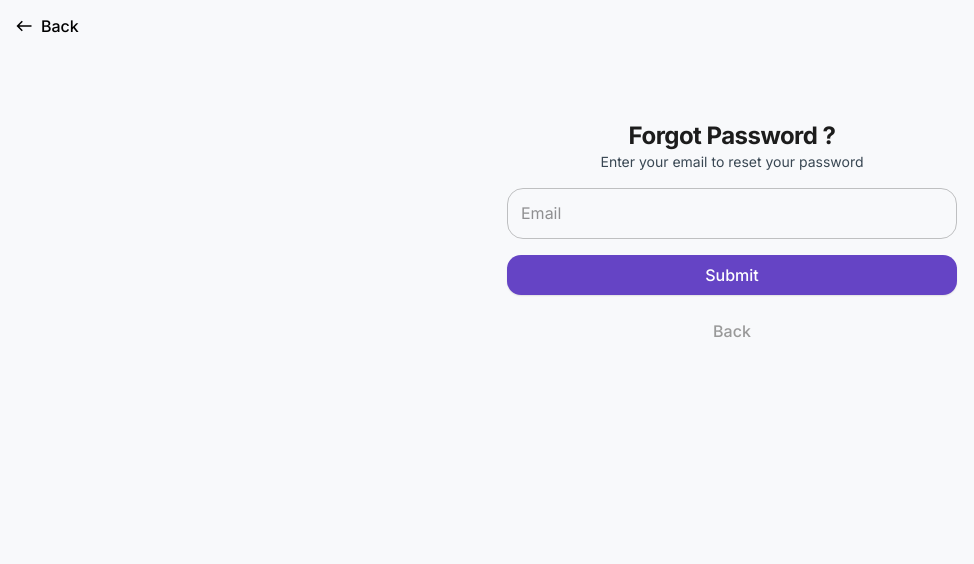
it: ForgotPasswordScreen Back Button › OTP verification screen
Type "test@mail.com" into the field with placeholder "Email" at coordinates (732, 214), box [507,188,957,239]
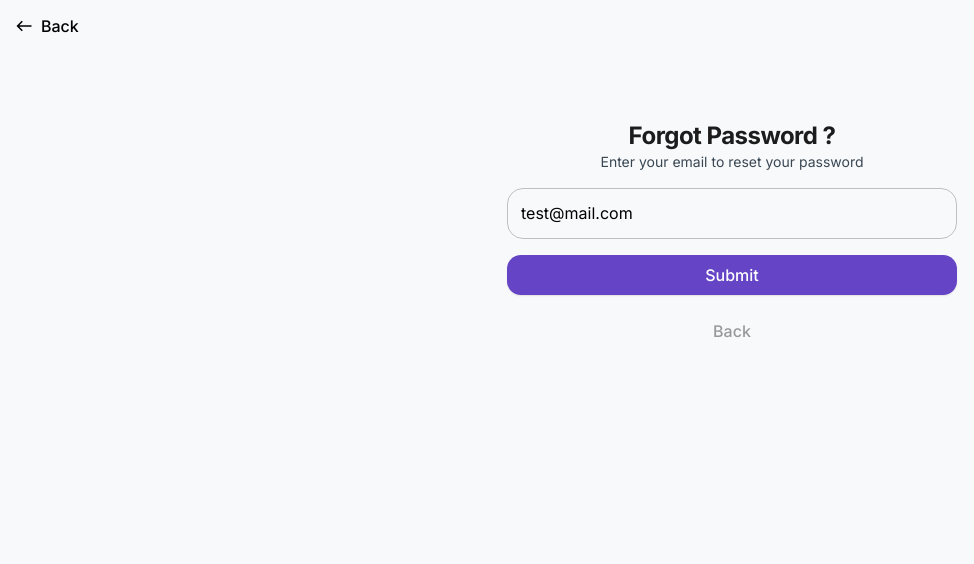
Click the button "Submit" at coordinates (732, 275), box [507,255,957,295]
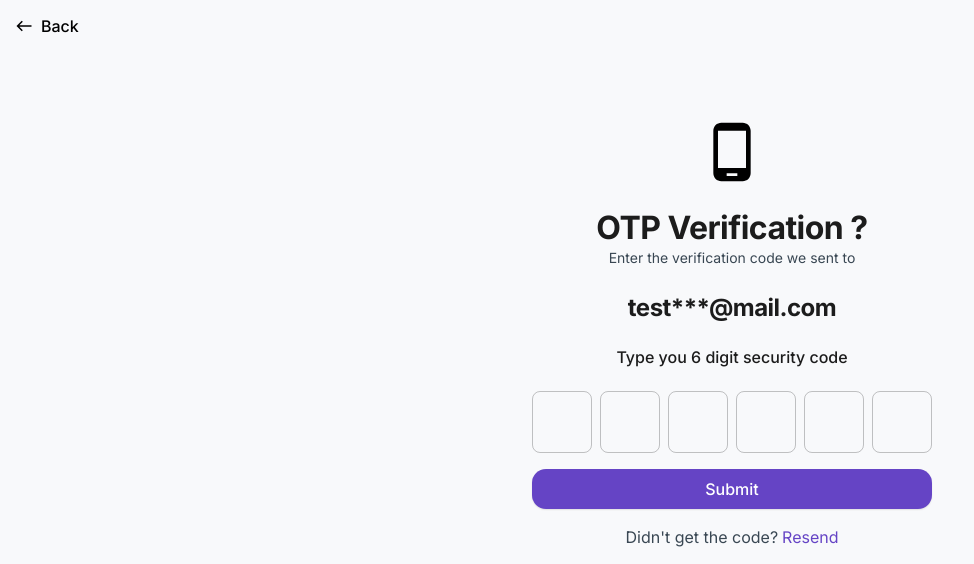
Check: the heading "OTP Verification ?" is shown, box [596,208,868,248]
Click the button "Back" at coordinates (48, 26), box [12,12,84,40]
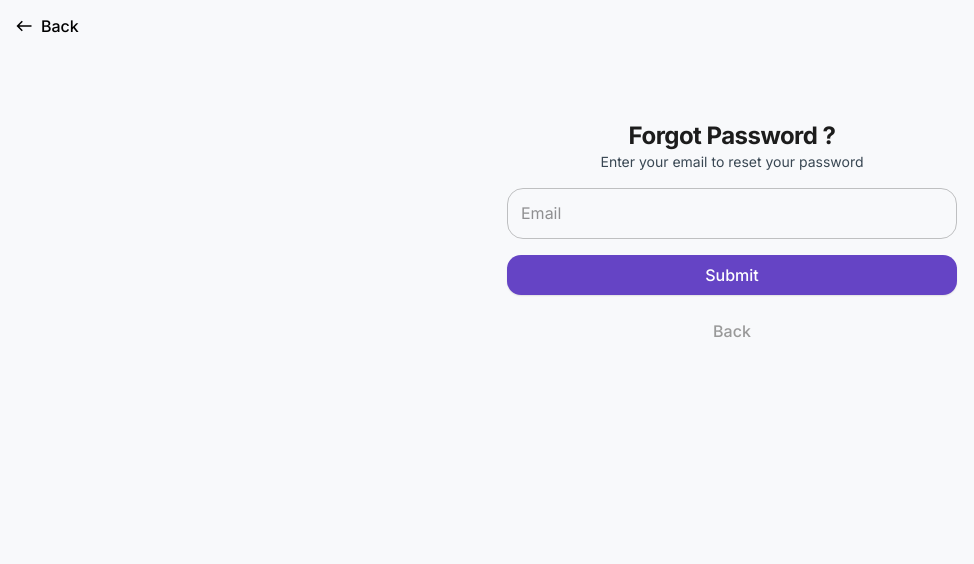
Check: the text "Enter your email to reset your password" is shown, box [600,153,864,170]
